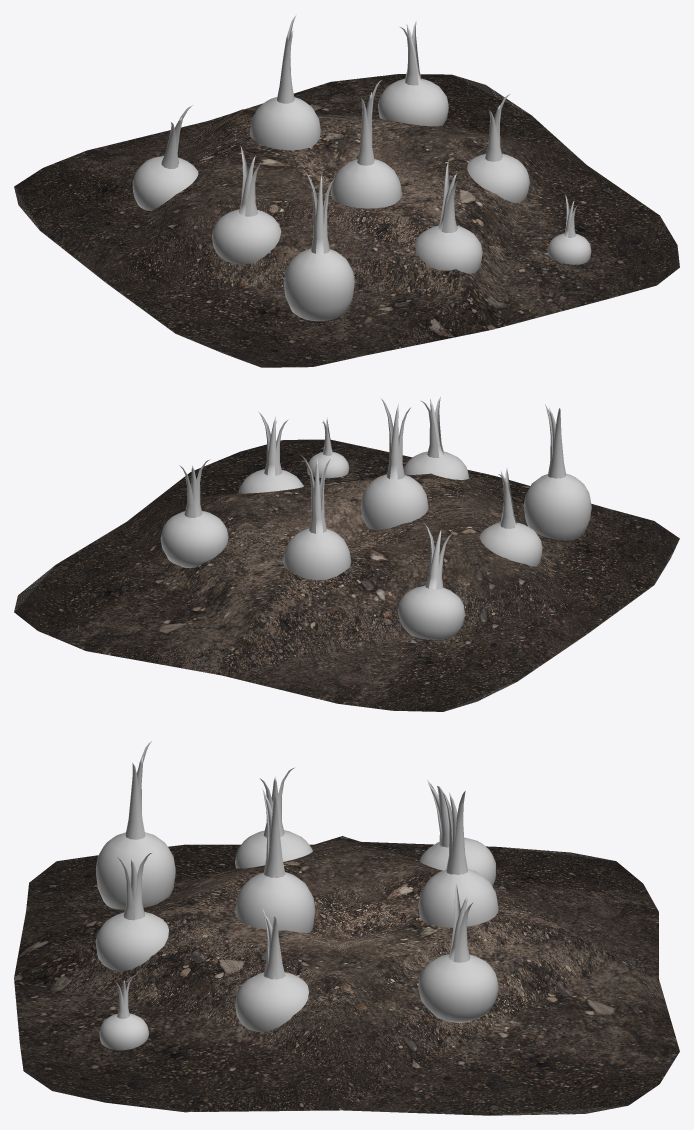
The model's file is Onion_lod0_High.fbx.
The picture shows the model from 3 angles, top to bottom: view 1: azimuth 30°, elevation 25°; view 2: azimuth 150°, elevation 25°; view 3: azimuth 270°, elevation 25°; orthographic projection. The views are drawn at different scales.
Visible parts, largest first — view 1: Onion_lod0_High; view 2: Onion_lod0_High; view 3: Onion_lod0_High.
Part boxes in pixels (x1,y1,x2,y2): Onion_lod0_High: [14, 15, 679, 367]; Onion_lod0_High: [14, 396, 679, 711]; Onion_lod0_High: [14, 741, 679, 1115].
Bounding box in the file's own units: 65.75 × 22.11 × 68.29.
